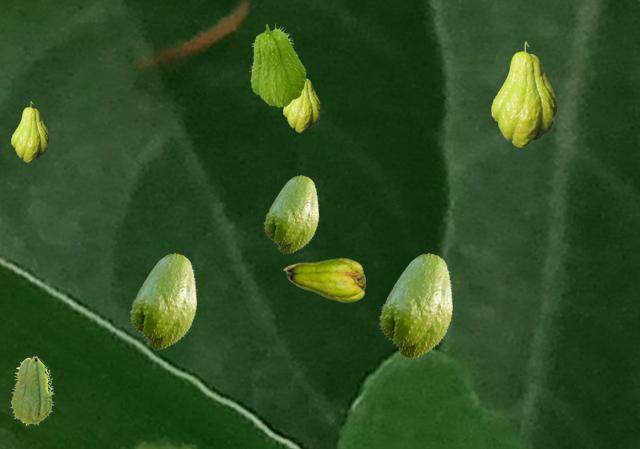sayote: (378, 253, 452, 358), (491, 41, 556, 146), (129, 253, 196, 349), (249, 23, 306, 106), (263, 175, 318, 253), (283, 258, 364, 301), (10, 356, 53, 425), (11, 101, 48, 161), (283, 78, 320, 131)
